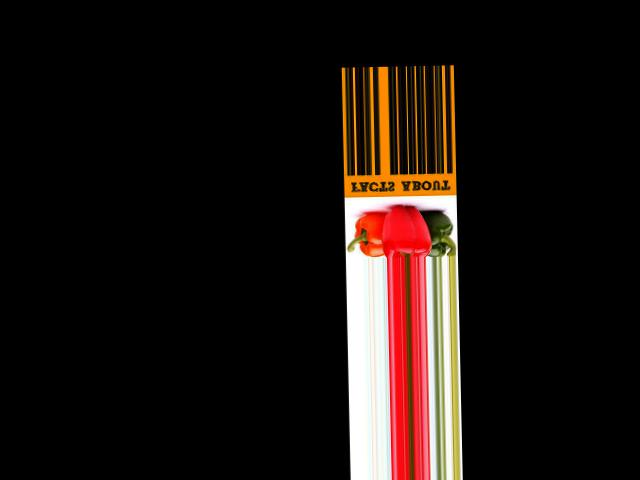bell_pepper: (427, 203, 456, 256)
